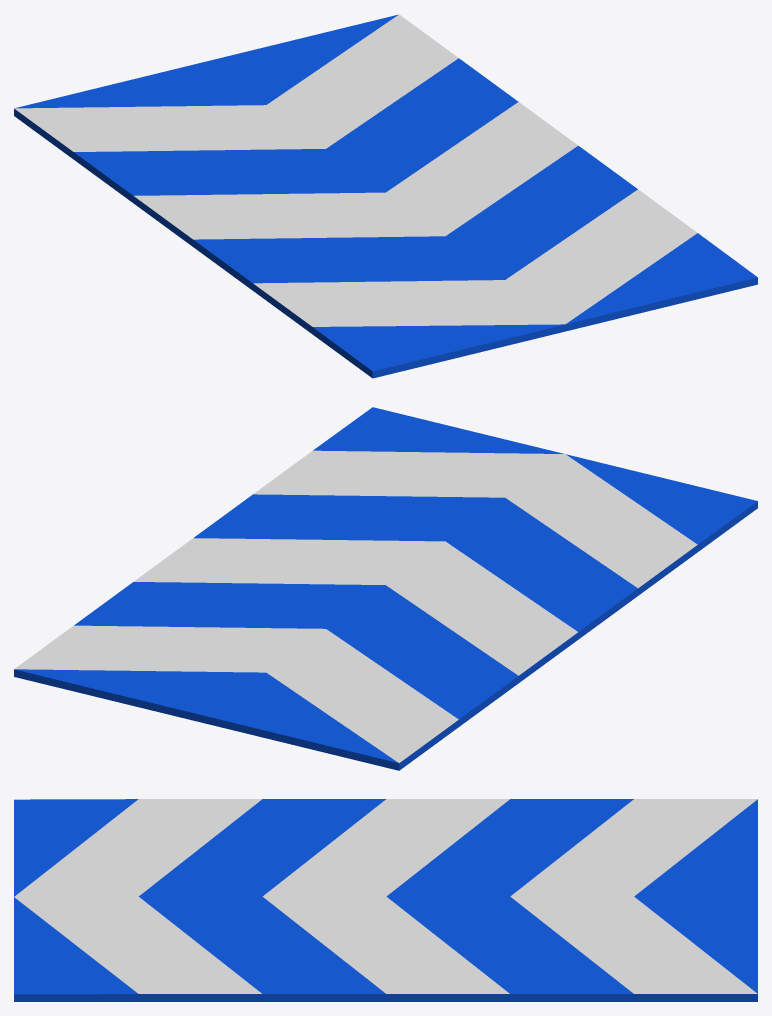
File: Way_Front_.fbx
The picture shows the model from 3 angles, top to bottom: view 1: azimuth 30°, elevation 25°; view 2: azimuth 150°, elevation 25°; view 3: azimuth 270°, elevation 25°; orthographic projection. The views are drawn at different scales.
Visible parts, largest first — view 1: Way_Front_; view 2: Way_Front_; view 3: Way_Front_.
Boxes of the visible parts, bbox=[...] form: Way_Front_: bbox=[14, 14, 757, 378]; Way_Front_: bbox=[14, 407, 757, 770]; Way_Front_: bbox=[14, 799, 757, 1001].
Size of the model in its own units: 4 by 6.45 by 0.075.
